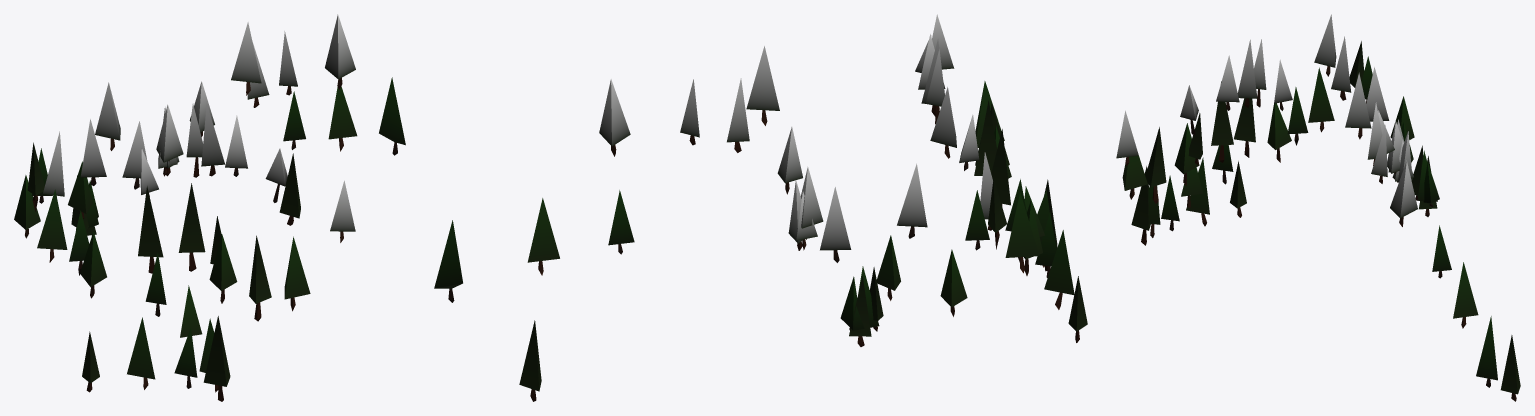
The model's file is c_trees_piertown.fbx.
3 renders of one model, left to right at view 1: azimuth 30°, elevation 25°; view 2: azimuth 150°, elevation 25°; view 3: azimuth 270°, elevation 25°, orthographic. The views are drawn at different scales.
Parts seen in each view (by area): view 1: c_trees_piertown; view 2: c_trees_piertown; view 3: c_trees_piertown.
Boxes of the visible parts, bbox=[...] form: c_trees_piertown: bbox=[14, 14, 405, 401]; c_trees_piertown: bbox=[434, 14, 1087, 401]; c_trees_piertown: bbox=[1116, 14, 1520, 401].
Bounding box in the file's own units: 82.24 × 50.72 × 68.2.
